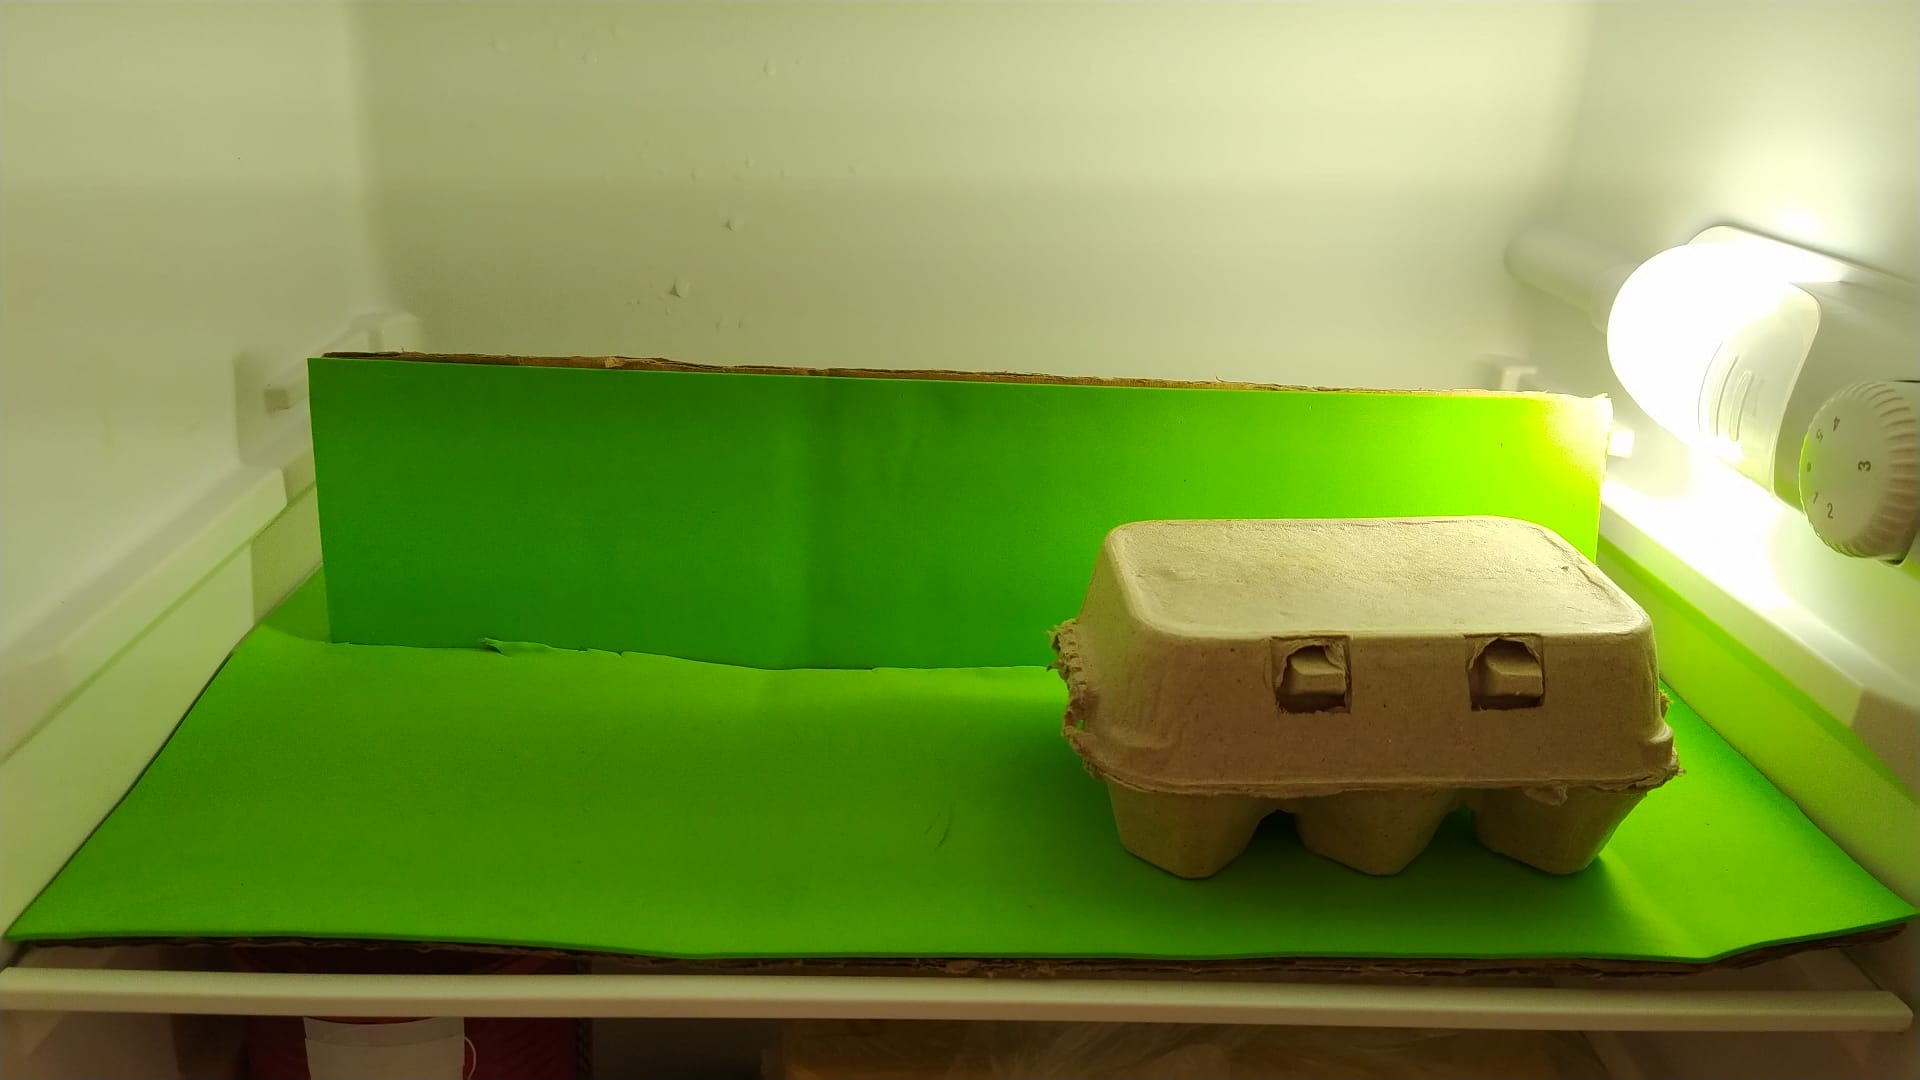egg: (1051, 516, 1687, 880)
